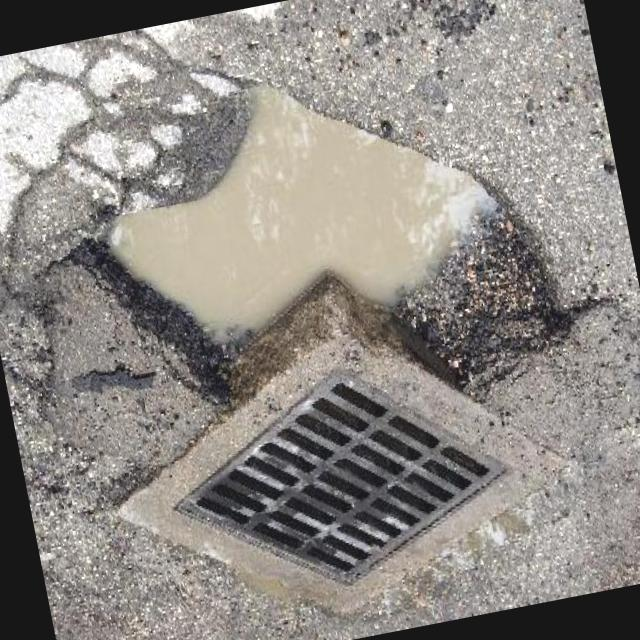pothole: (48, 31, 589, 470)
